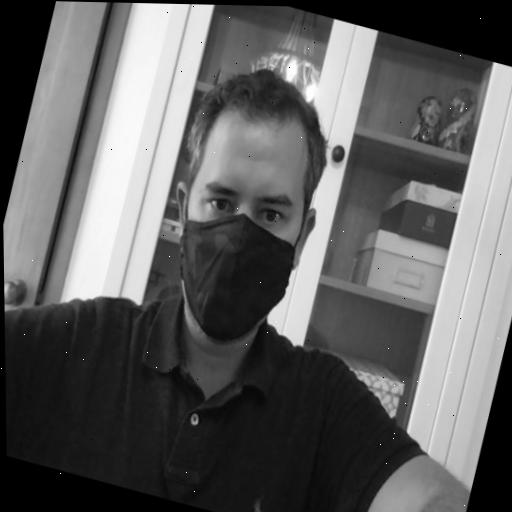mask: (144, 52, 352, 359)
